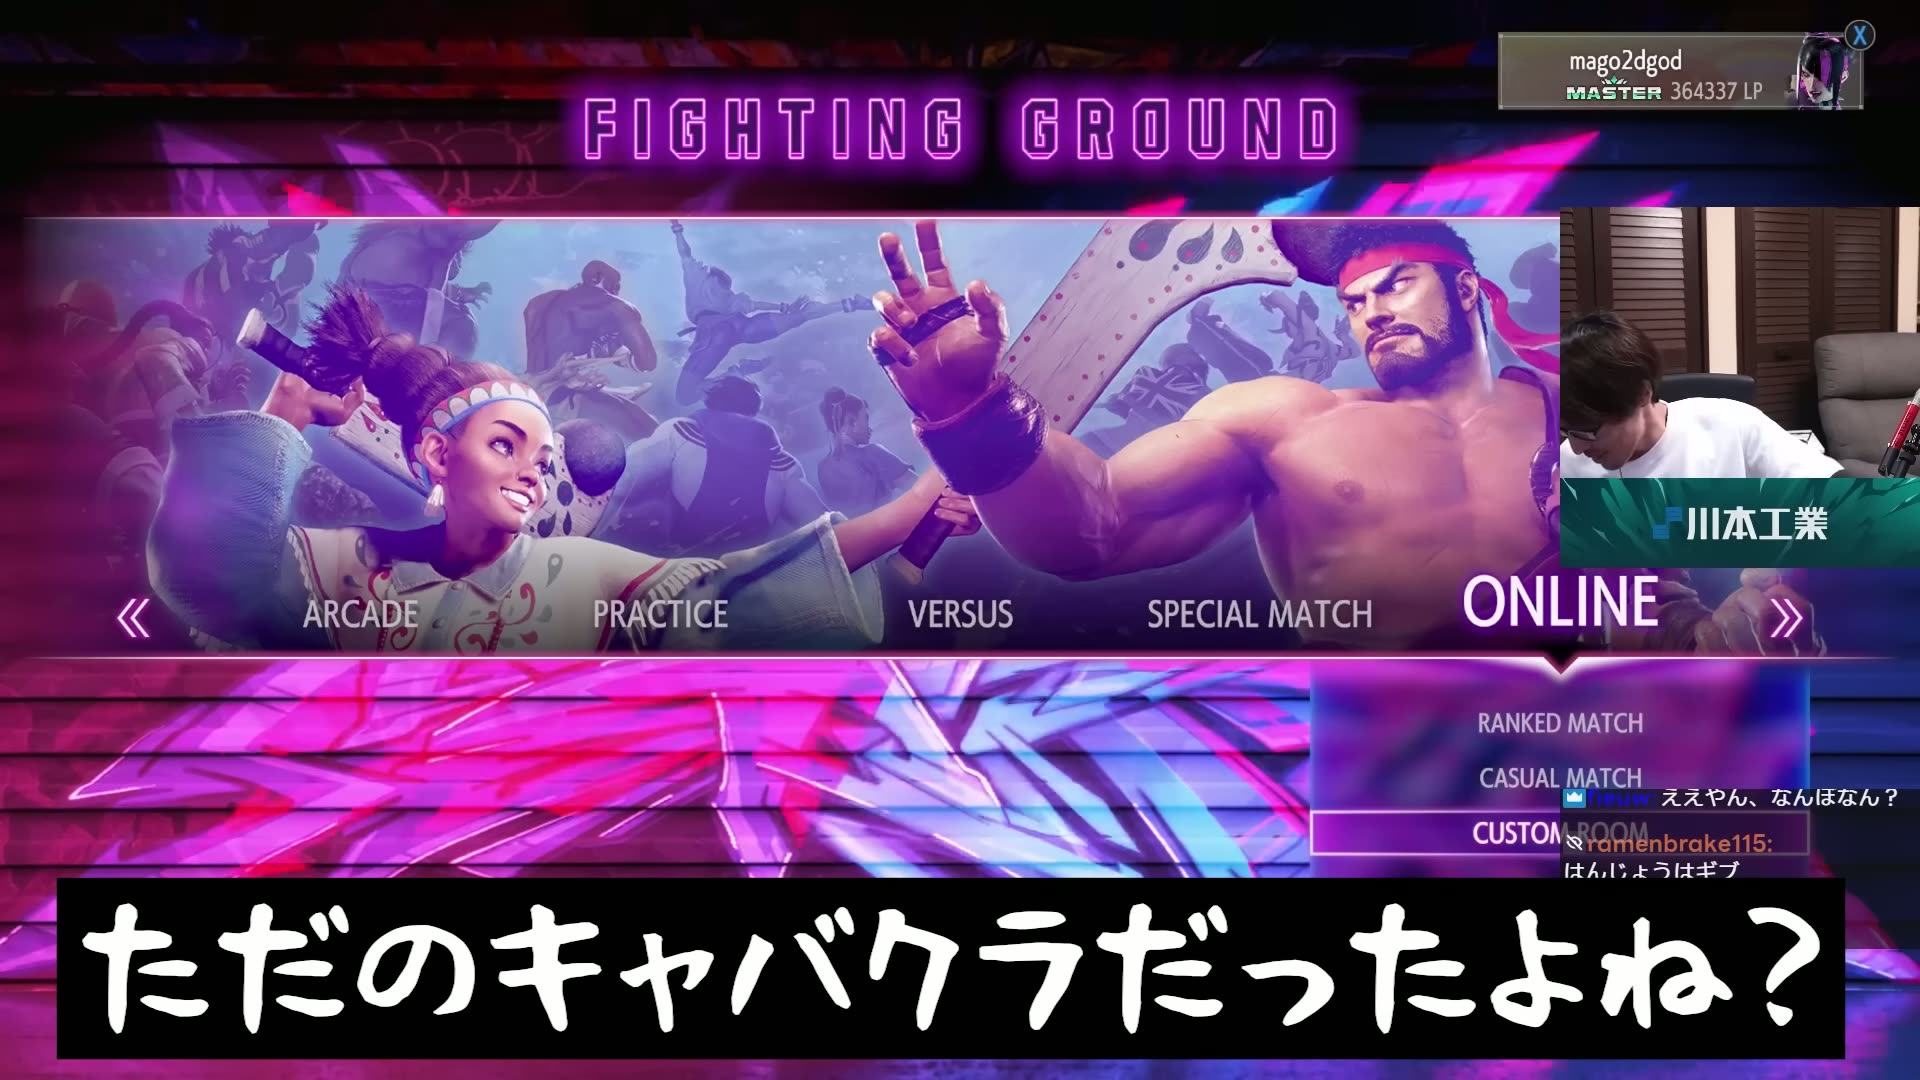stream_tag: (1563, 204, 1920, 475)
